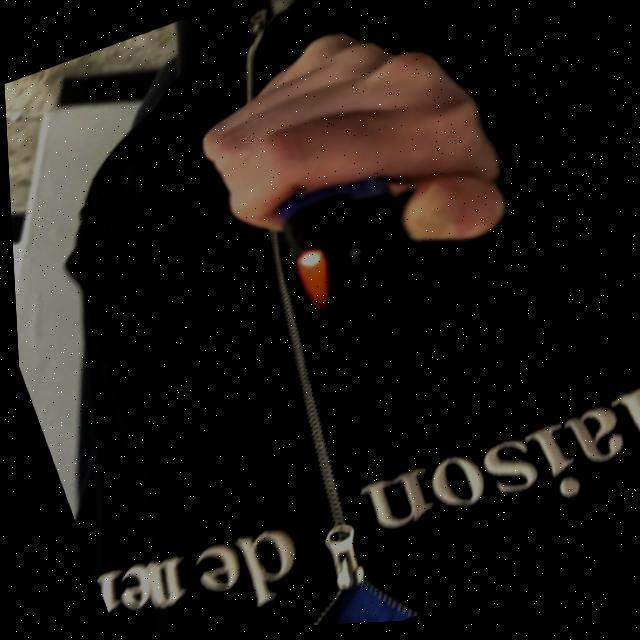Fire: (282, 243, 344, 325)
